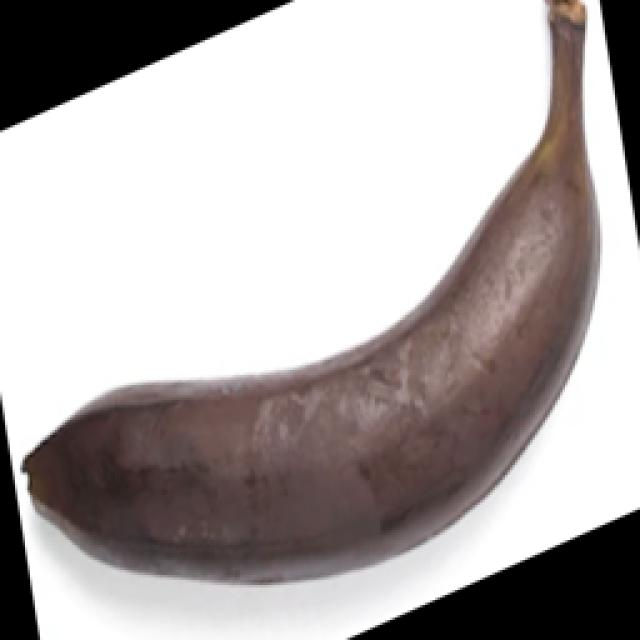Rotten_Banana: (25, 49, 622, 628)
